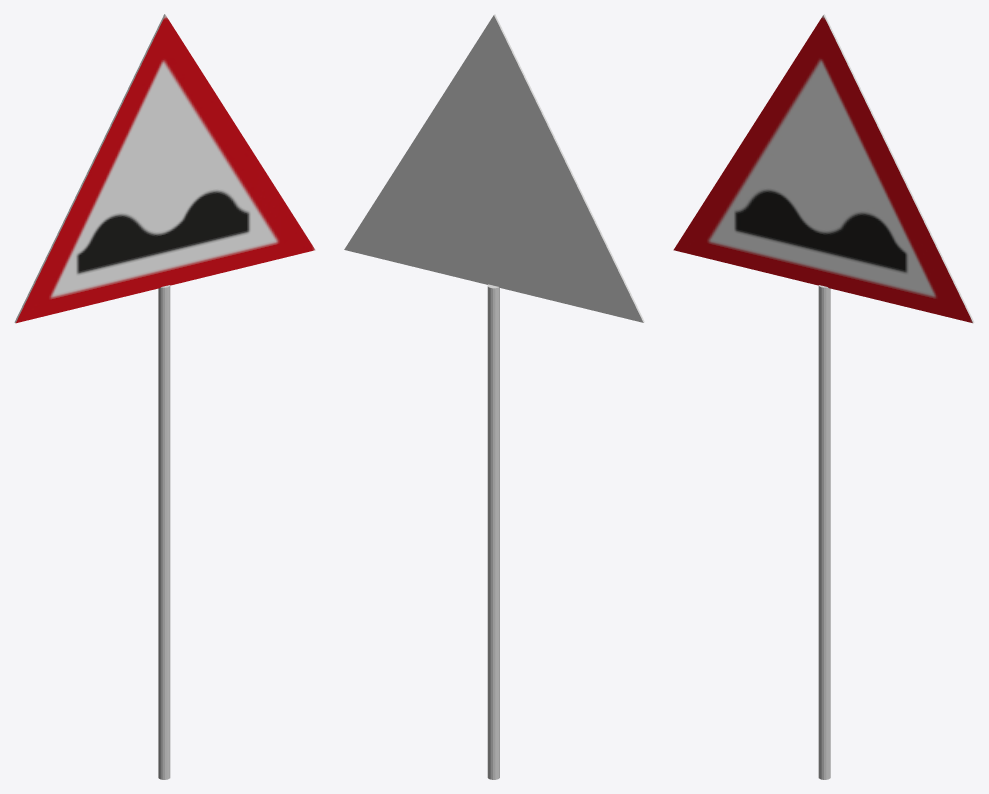
Rendered from kasisli_yol.fbx.
The picture shows the model from 3 angles, left to right: view 1: azimuth 30°, elevation 25°; view 2: azimuth 150°, elevation 25°; view 3: azimuth 330°, elevation 25°; orthographic projection.
Visible parts, largest first — view 1: kasisli_yol; view 2: kasisli_yol; view 3: kasisli_yol.
Boxes of the visible parts, x1=… form: kasisli_yol: x1=14, y1=14, x2=315, y2=779; kasisli_yol: x1=344, y1=14, x2=644, y2=779; kasisli_yol: x1=673, y1=14, x2=974, y2=779.
Bounding box in the file's own units: 140 × 341 × 5.
2 materials, 1 textured.
